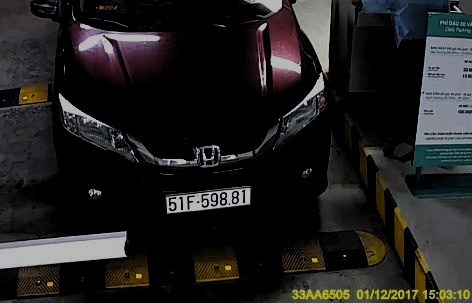plate: (163, 186, 252, 213)
